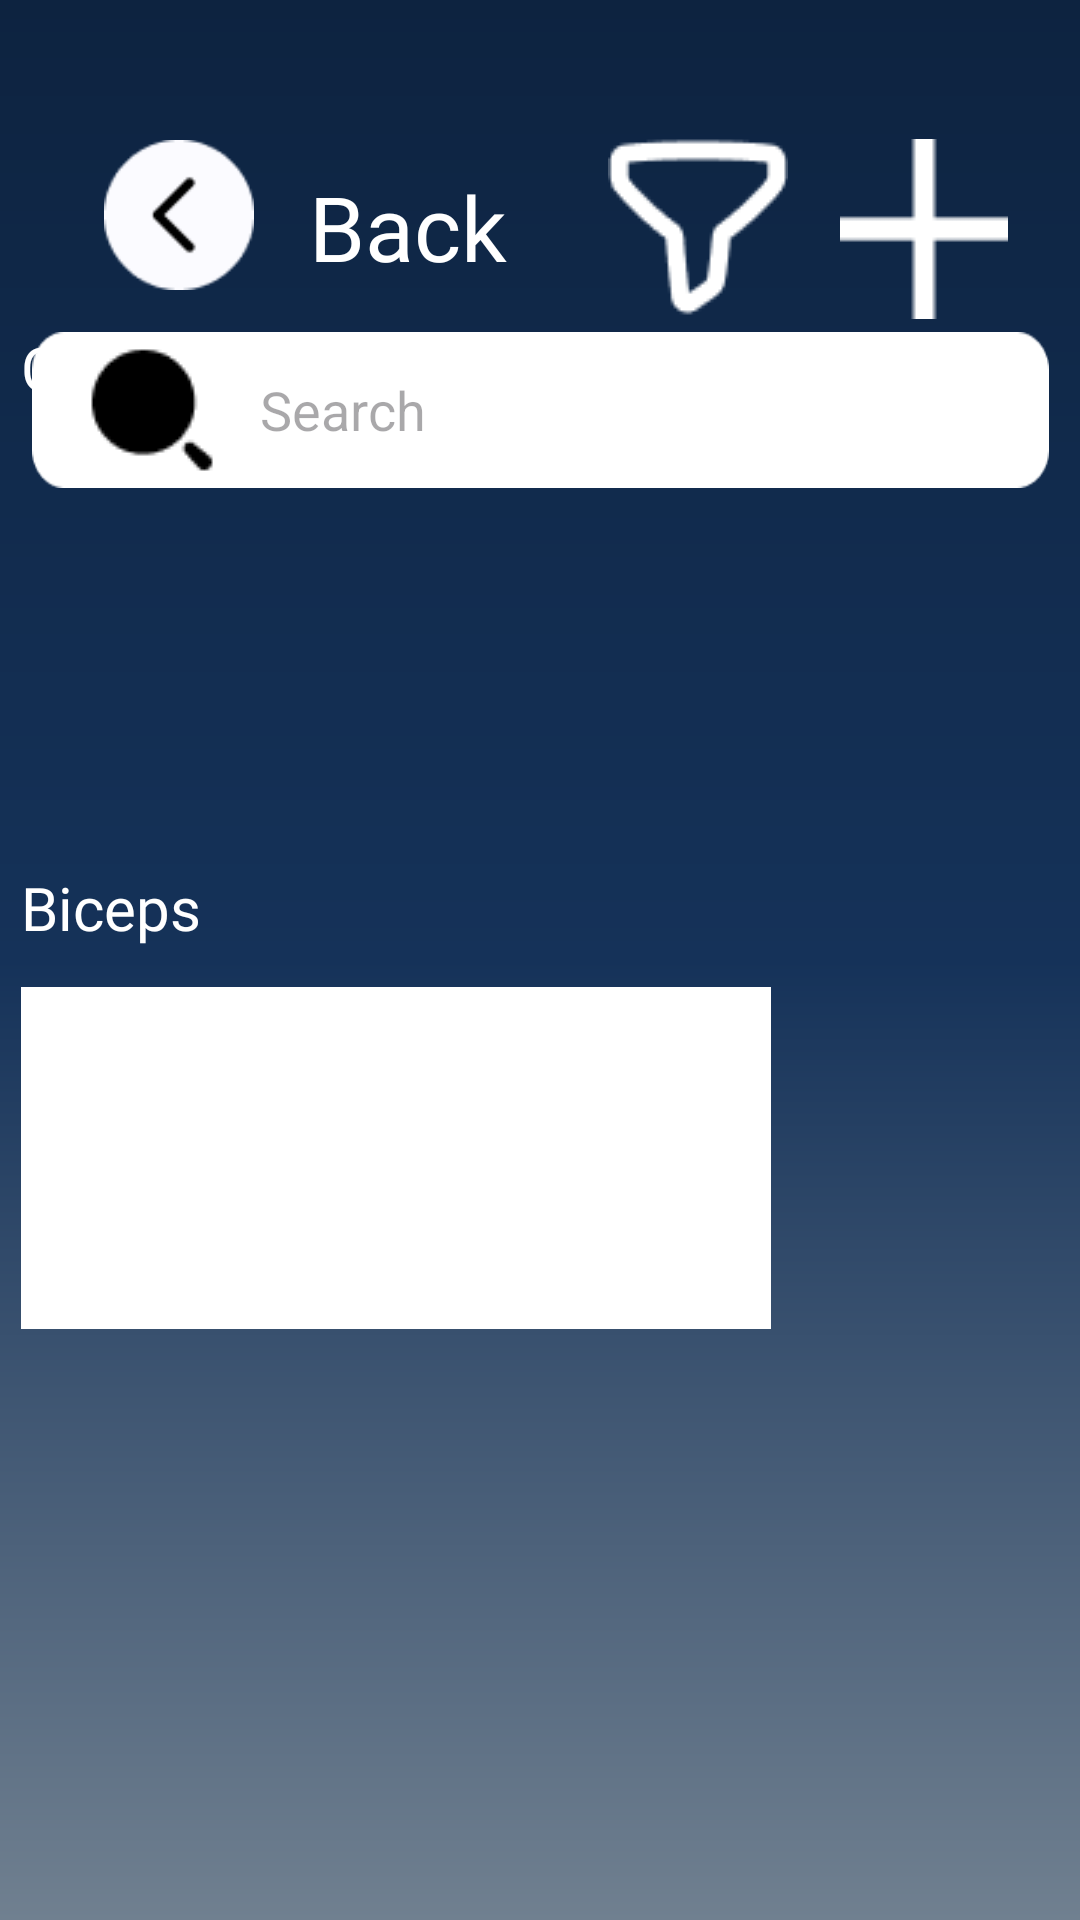

Point at icon controls on the screen. Image size 1080px x 1920px, points as point (x, y).
chervon left: point (179, 215)
filter: point (698, 227)
plusicon: point (924, 229)
